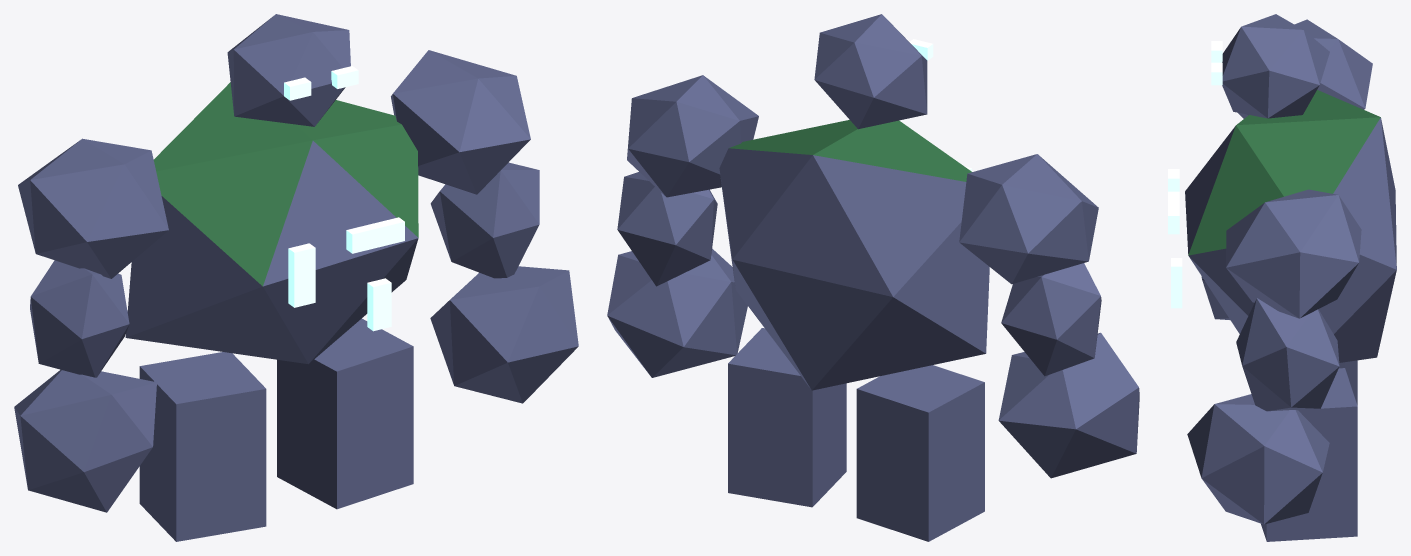
File: brute.glb
3 renders of one model, left to right at view 1: azimuth 30°, elevation 25°; view 2: azimuth 150°, elevation 25°; view 3: azimuth 270°, elevation 25°, orthographic. The views are drawn at different scales.
Visible parts, largest first — view 1: Torso; view 2: Torso; view 3: Torso.
Part boxes in pixels (<box>): Torso: <box>14,14,578,541</box>; Torso: <box>607,14,1139,541</box>; Torso: <box>1168,14,1396,541</box>.
Bounding box in the file's own units: 2.11 × 1.78 × 0.7969.
